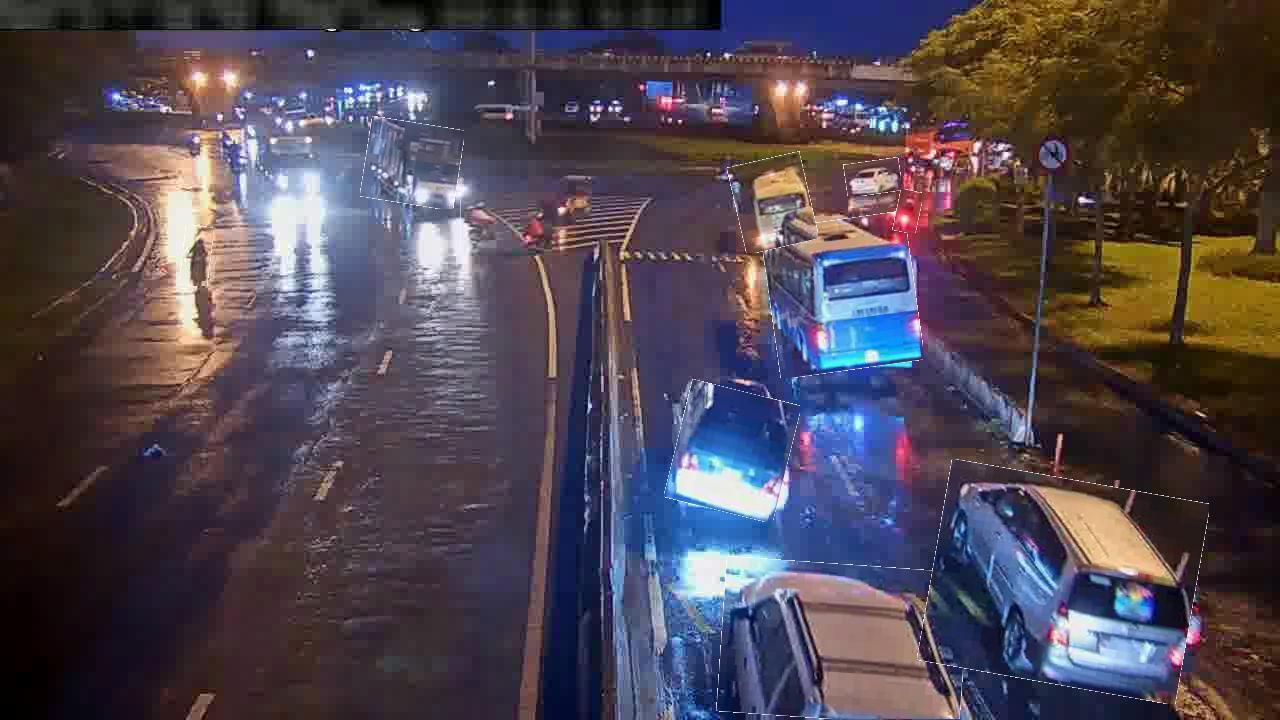14: (765, 216, 920, 375)
8: (363, 120, 463, 207), (732, 155, 815, 251)
container: (925, 470, 1203, 694), (718, 560, 967, 719), (671, 385, 795, 518), (844, 159, 901, 196)
motorbike: (460, 199, 501, 253), (181, 226, 213, 287), (894, 190, 921, 234)
